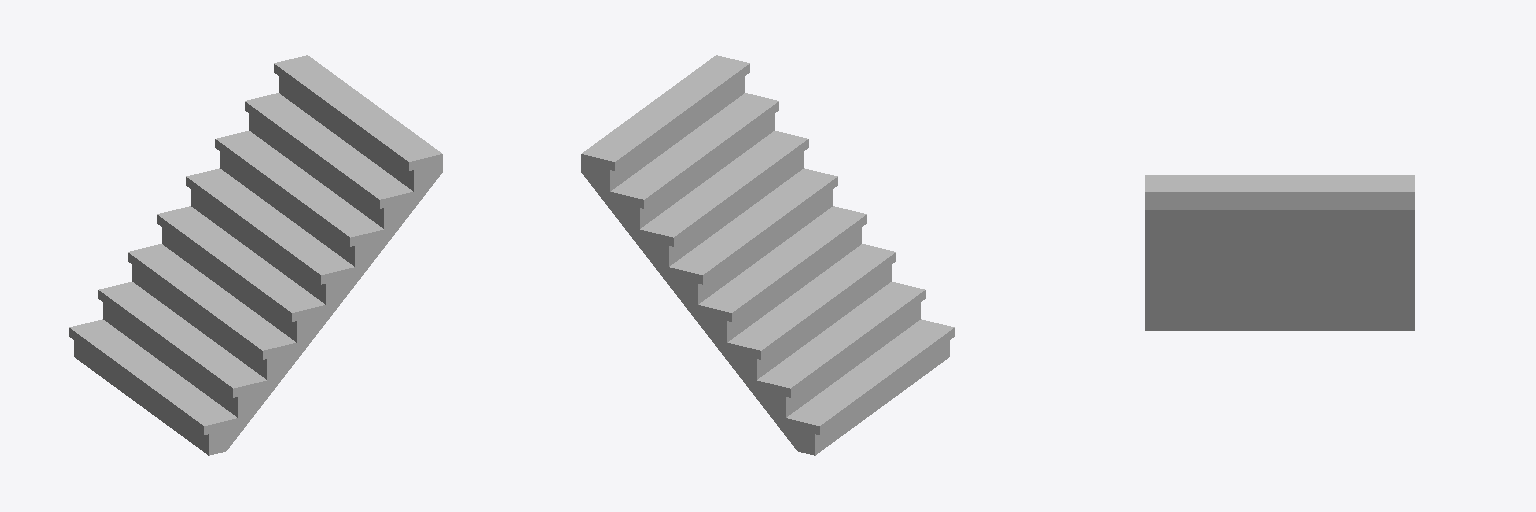
File: stairsWideStone.obj
The picture shows the model from 3 angles: view 1: azimuth 30°, elevation 25°; view 2: azimuth 150°, elevation 25°; view 3: azimuth 270°, elevation 25°; orthographic projection.
Visible parts, largest first — view 1: stairsWideStone; view 2: stairsWideStone; view 3: stairsWideStone.
Part boxes in pixels (x1,y1,x2,y2): stairsWideStone: (69,55,442,455); stairsWideStone: (581,55,954,455); stairsWideStone: (1145,175,1414,330).
Size of the model in its own units: 1.02 by 1 by 1.